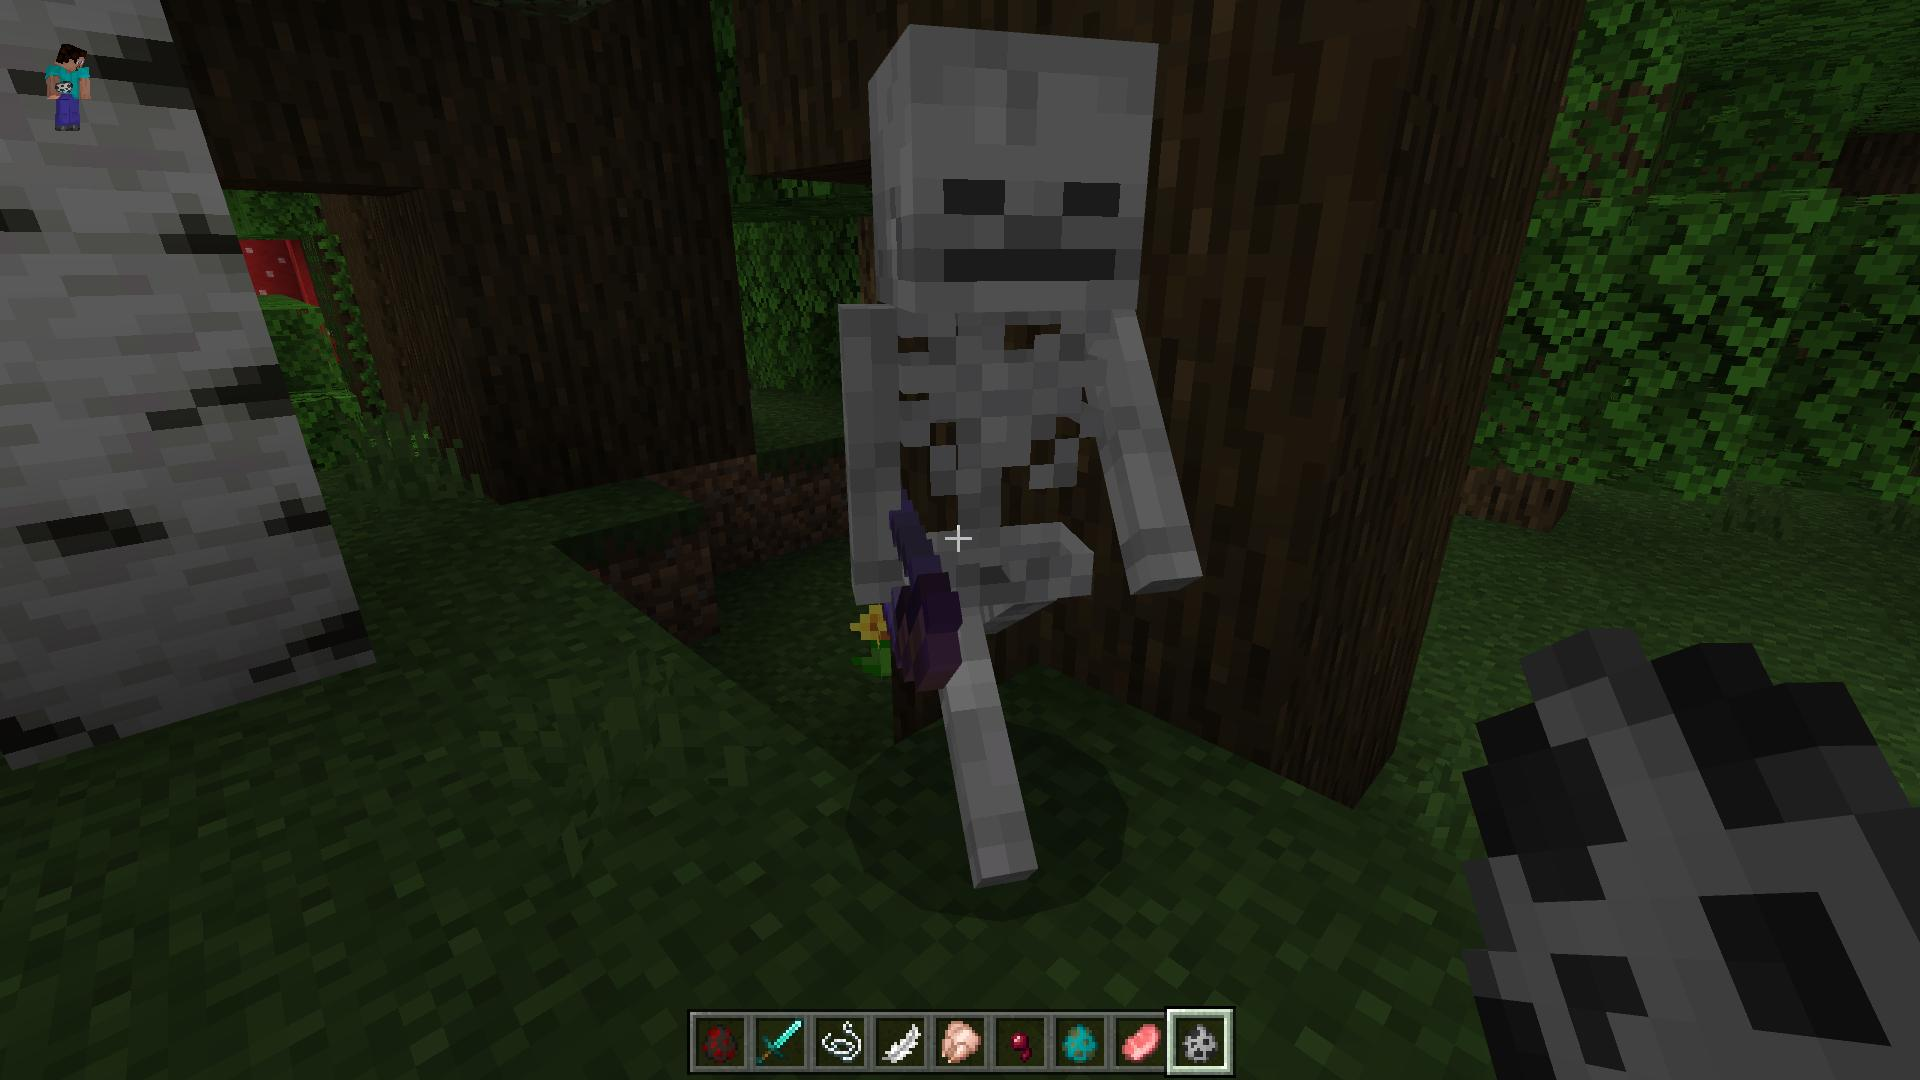skeleton: (835, 18, 1212, 891)
